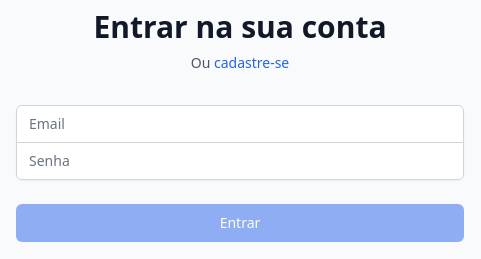
LoginForm Component › Form Submission › should show loading state during submission
Step 1. Type "test@example.com" into the field labelled "Email" → (240, 124), box [16,104,464,142]
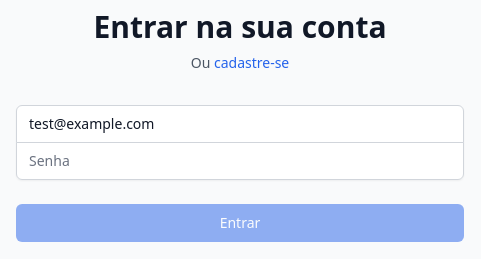
Step 2. Type "password123" into the password field labelled "Senha" → (240, 160), box [16,142,464,180]
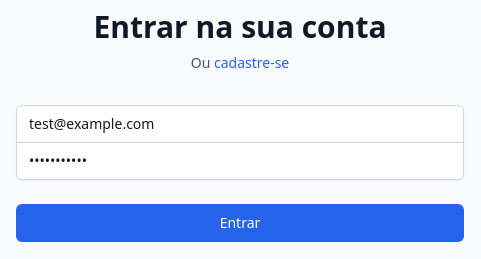
Step 3. Click the button "Entrar" → (240, 222), box [16,204,464,242]
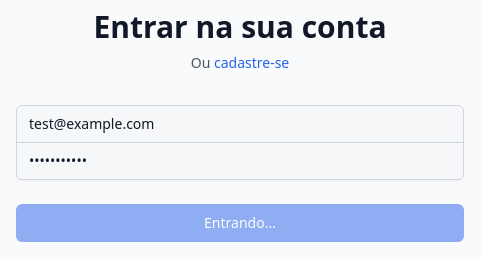
Expected: the button "Entrando..." is disabled, [16,204,464,242]
